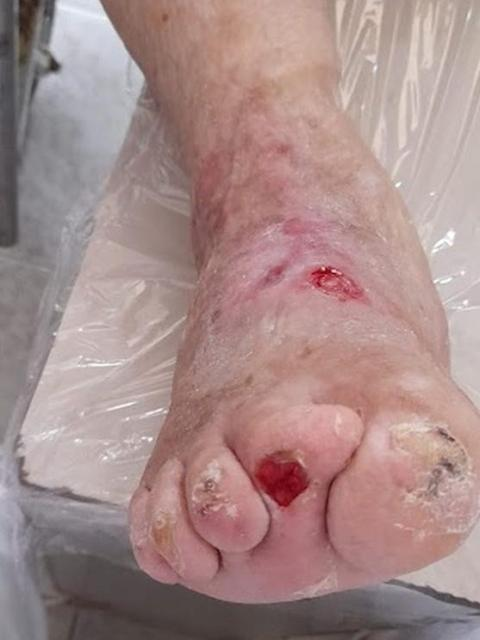wound: (255, 449, 310, 508), (306, 265, 374, 308)
